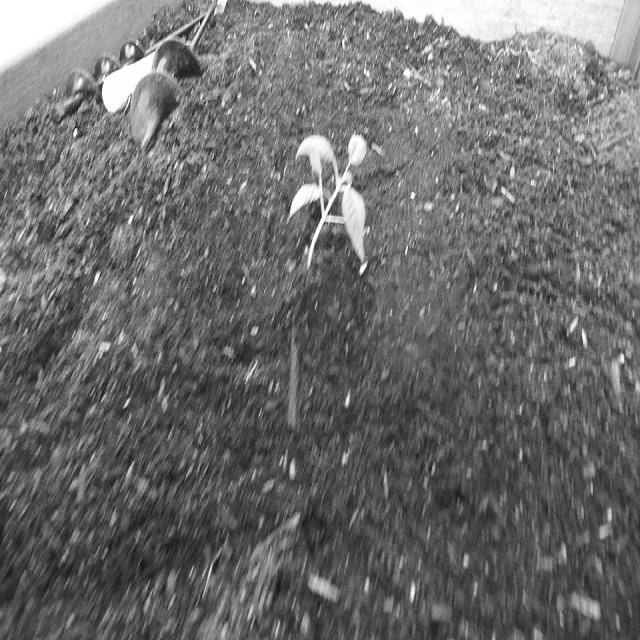Healthy: (286, 123, 375, 282)
